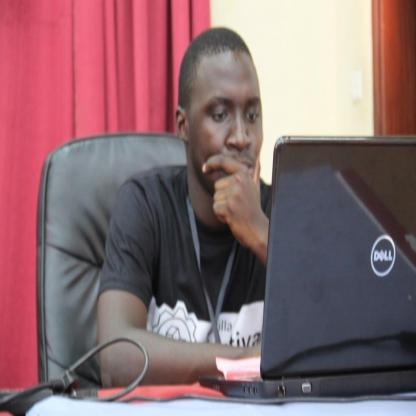board: (195, 131, 415, 404)
